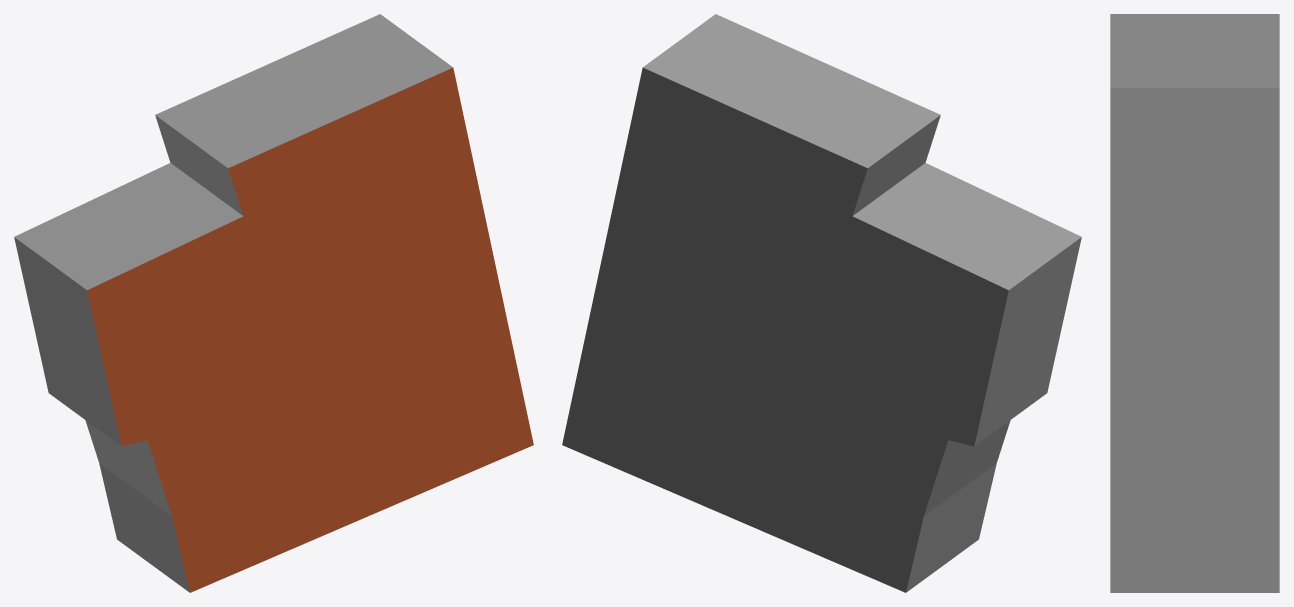
Rendered from construction_2805_assumed_A_Casa_h6m.obj.
The picture shows the model from 3 angles, left to right: view 1: azimuth 30°, elevation 25°; view 2: azimuth 150°, elevation 25°; view 3: azimuth 270°, elevation 25°; orthographic projection. The views are drawn at different scales.
Visible parts, largest first — view 1: construction_2805_assumed_A_Casa; view 2: construction_2805_assumed_A_Casa; view 3: construction_2805_assumed_A_Casa.
Part boxes in pixels (box(x1,y1,x2,y2)): construction_2805_assumed_A_Casa: box(14, 14, 533, 592); construction_2805_assumed_A_Casa: box(562, 14, 1081, 592); construction_2805_assumed_A_Casa: box(1110, 14, 1279, 592).
Size of the model in its own units: 21.18 by 20.9 by 6.
